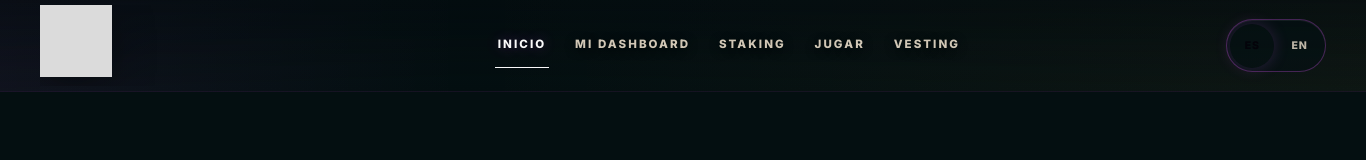
Test: components/landing/LandingHeader › mantiene el cambio de idioma aunque el navegador bloquee localStorage
Click the button with aria-label "View website in English". click: x=1300, y=46
box: [1278,24,1322,68]
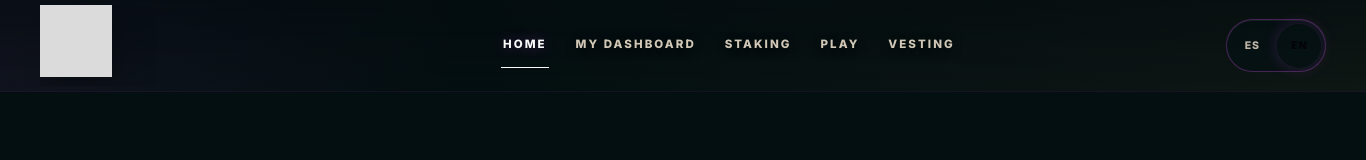
Expected: the link "Home" is shown, [501,24,549,68]
